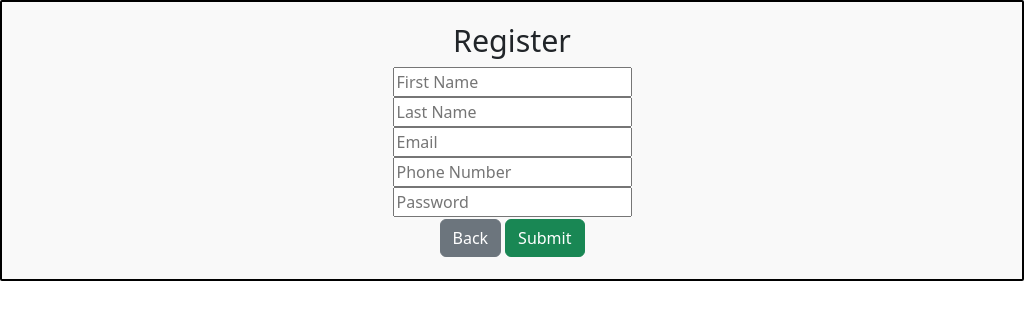
Submits form email not valid
Type "Ditte" into the field with placeholder "First Name" at (512,82), box [392,66,632,96]
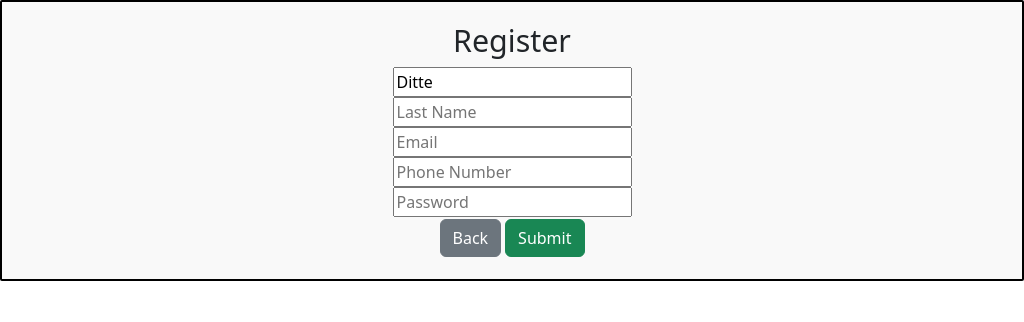
Type "Hej" into the field with placeholder "Last Name" at (512,112), box [392,96,632,126]
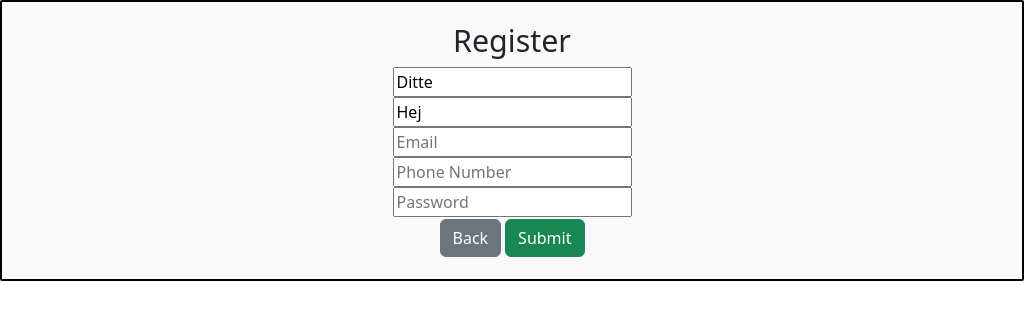
Type "Ditte$example.com" into the field with placeholder "Email" at (512,142), box [392,126,632,156]
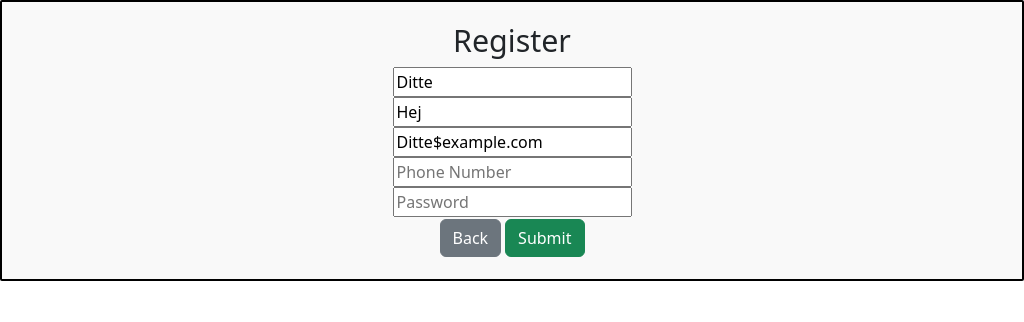
Type "12345678" into the field with placeholder "Phone Number" at (512,172), box [392,156,632,186]
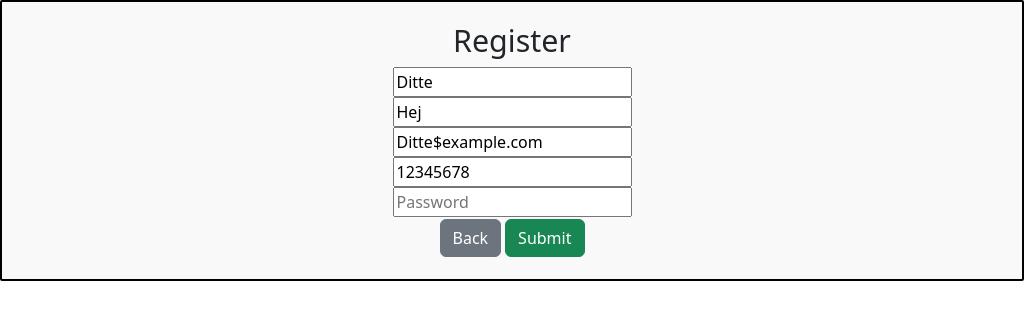
Type "password" into the password field with placeholder "Password" at (512,202), box [392,186,632,216]
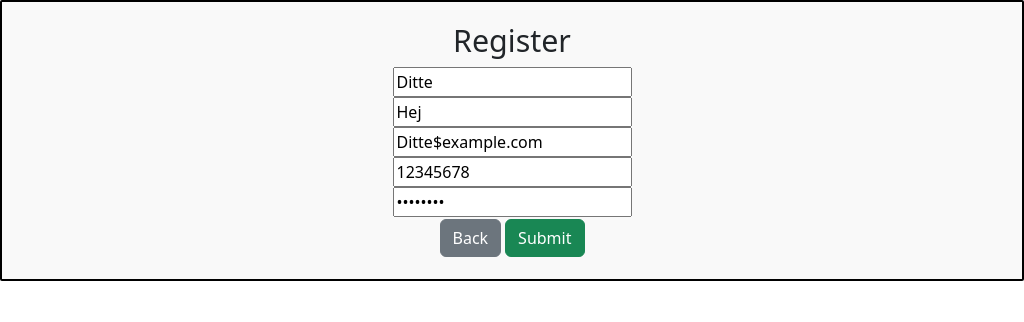
Click the button "Submit" at (545,238), box [505,218,584,256]
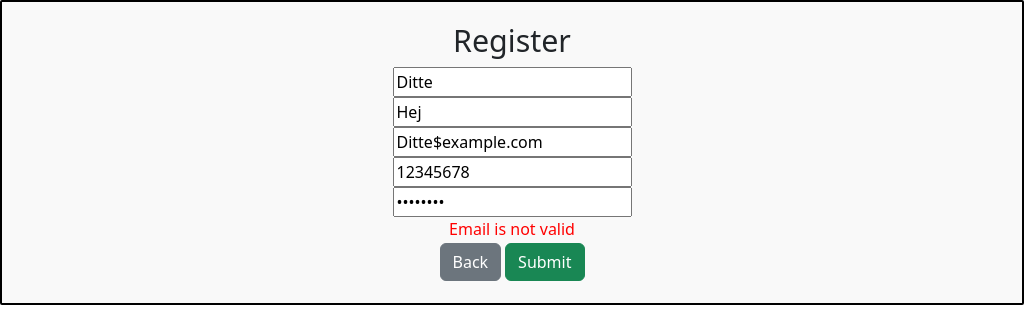
Now the text "Email is not valid" is shown, box [449,218,575,240]
